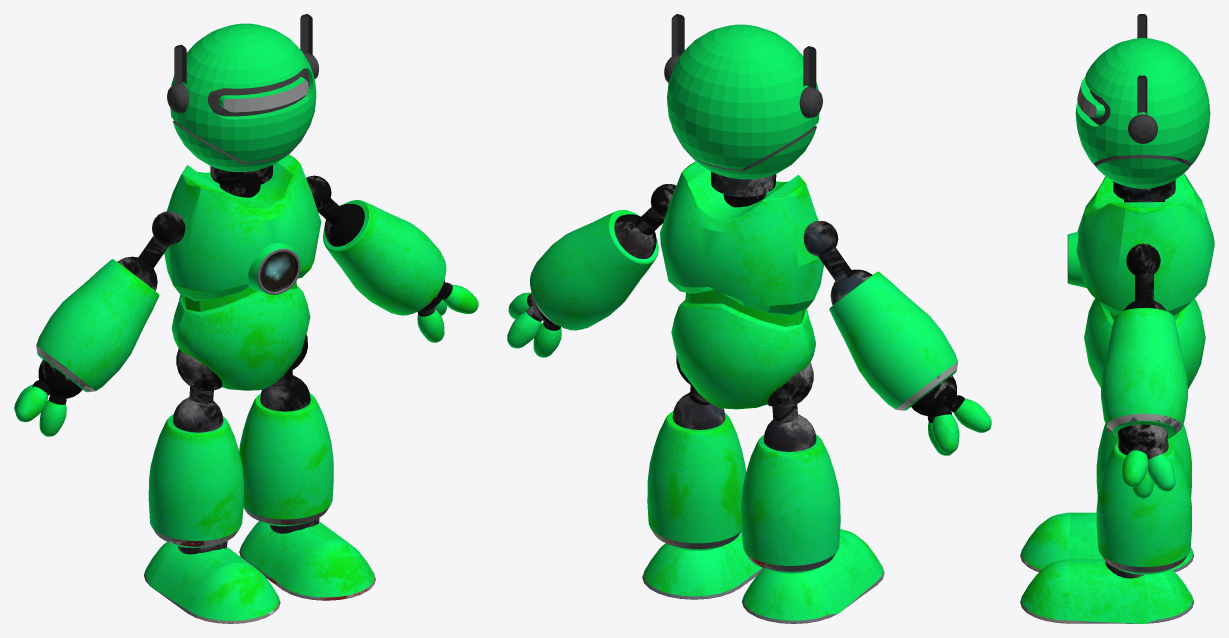
Rendered from Hubot_Robot.fbx.
3 views of the same model, side by side, from view 1: azimuth 30°, elevation 25°; view 2: azimuth 150°, elevation 25°; view 3: azimuth 270°, elevation 25° (orthographic). The views are drawn at different scales.
Parts seen in each view (by area): view 1: робот.001; view 2: робот.001; view 3: робот.001.
Part boxes in pixels (bbox=[...]): робот.001: bbox=[14, 14, 478, 623]; робот.001: bbox=[507, 14, 991, 623]; робот.001: bbox=[1020, 14, 1214, 623].
Size of the model in its own units: 386 by 428 by 141.
